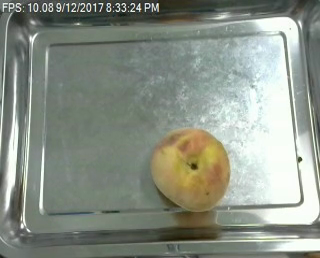Peach: (150, 125, 231, 210)
